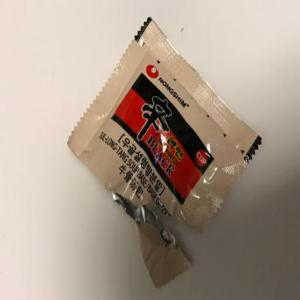Trash: (67, 17, 264, 289)
